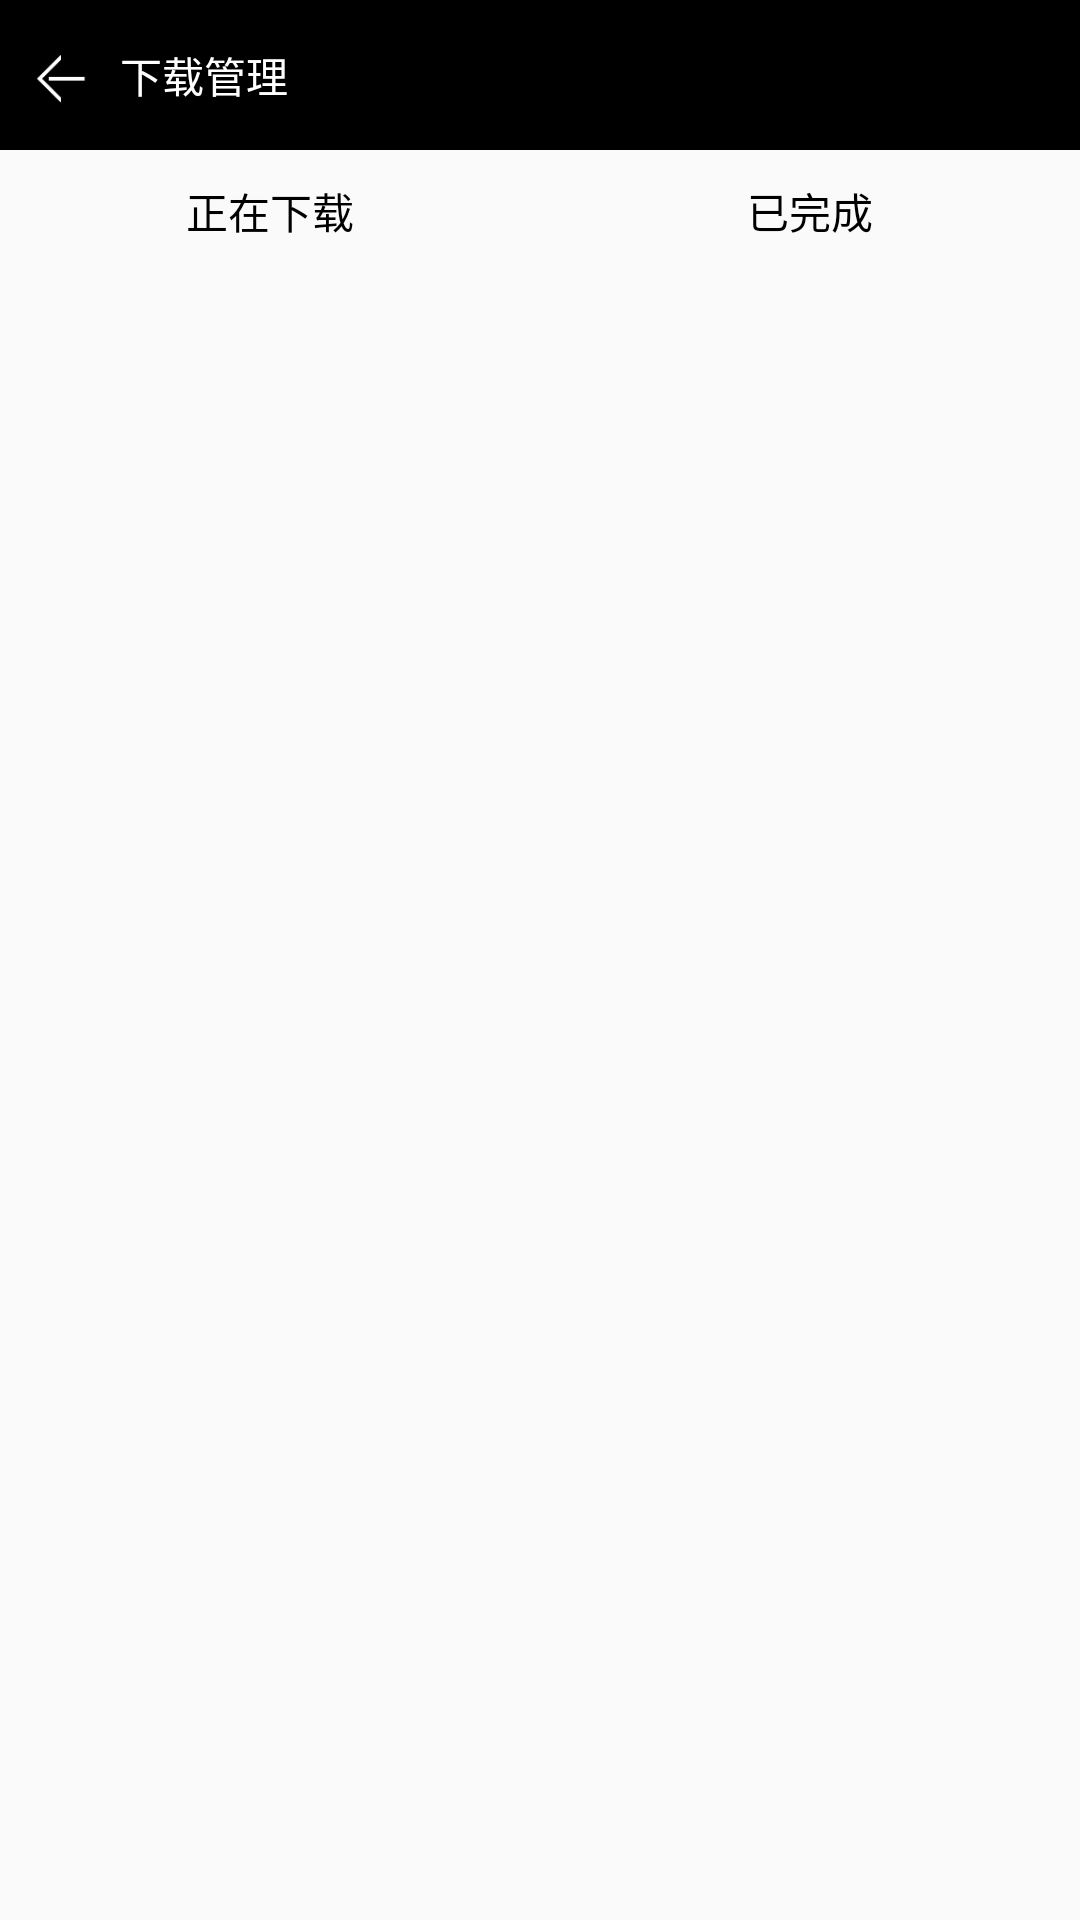

Locate icon controls on the screen. Image size 1080px x 1920px, boxes as (x1, y1, x2, y2).
back: (37, 55, 85, 103)
